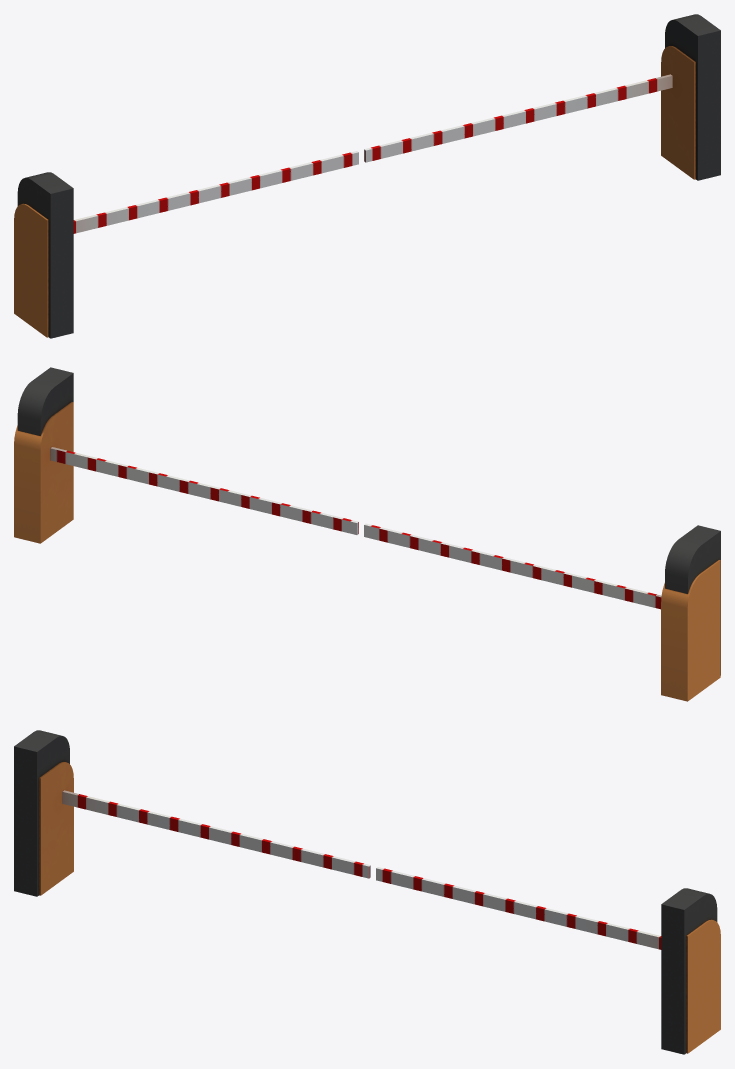
The model's file is menjin.obj.
3 renders of one model, top to bottom at view 1: azimuth 30°, elevation 25°; view 2: azimuth 150°, elevation 25°; view 3: azimuth 330°, elevation 25°, orthographic.
Parts seen in each view (by area): view 1: Rectangle276, Rectangle07; view 2: Rectangle07, Rectangle276; view 3: Rectangle07, Rectangle276.
Boxes of the visible parts, bbox=[...] form: Rectangle276: bbox=[364, 14, 720, 180]; Rectangle07: bbox=[14, 151, 358, 338]; Rectangle07: bbox=[364, 523, 720, 701]; Rectangle276: bbox=[14, 367, 358, 543]; Rectangle07: bbox=[14, 730, 370, 896]; Rectangle276: bbox=[376, 867, 720, 1054].
Bounding box in the file's own units: 117 × 23.94 × 10.48.
1 material, 1 textured.
